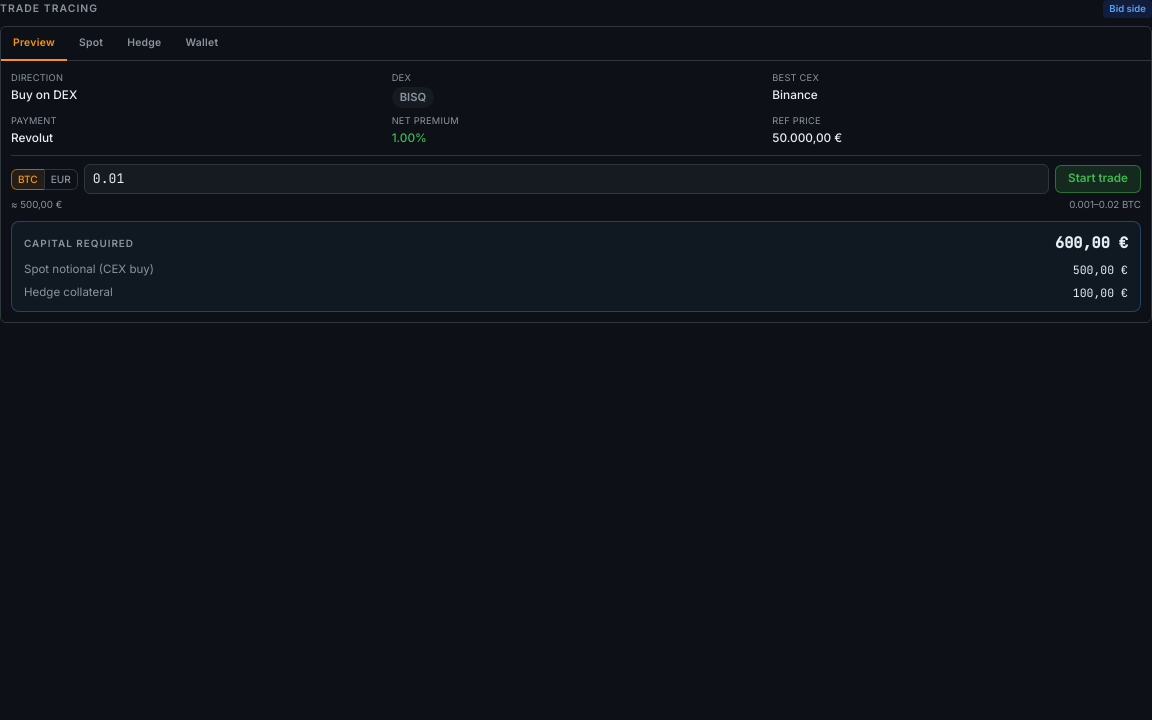
Test case: TradeTracingPanel custom quotes › discards a stale quote after the amount changes
The image size is (1152, 720).
Replace the text in the field showing "0.01" with "0.005". click: (566, 179)
box: x1=84 y1=164 x2=1049 y2=194
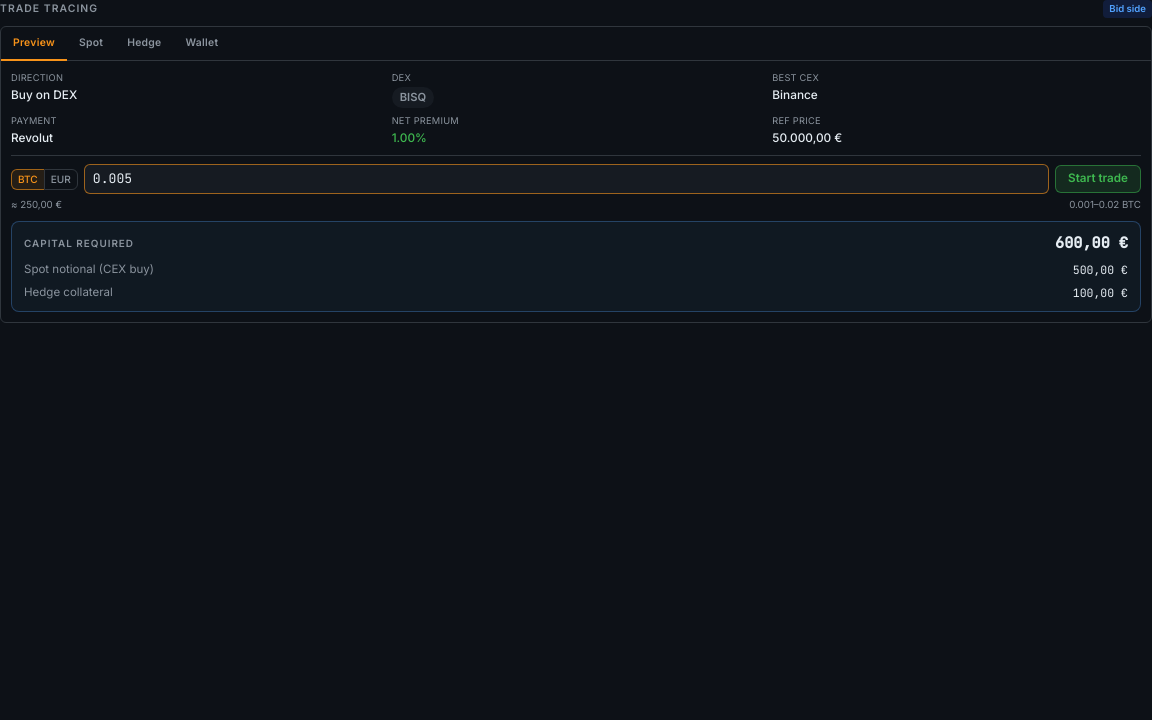
Click the button "Start trade". click: (1098, 179)
box: x1=1055 y1=166 x2=1141 y2=193
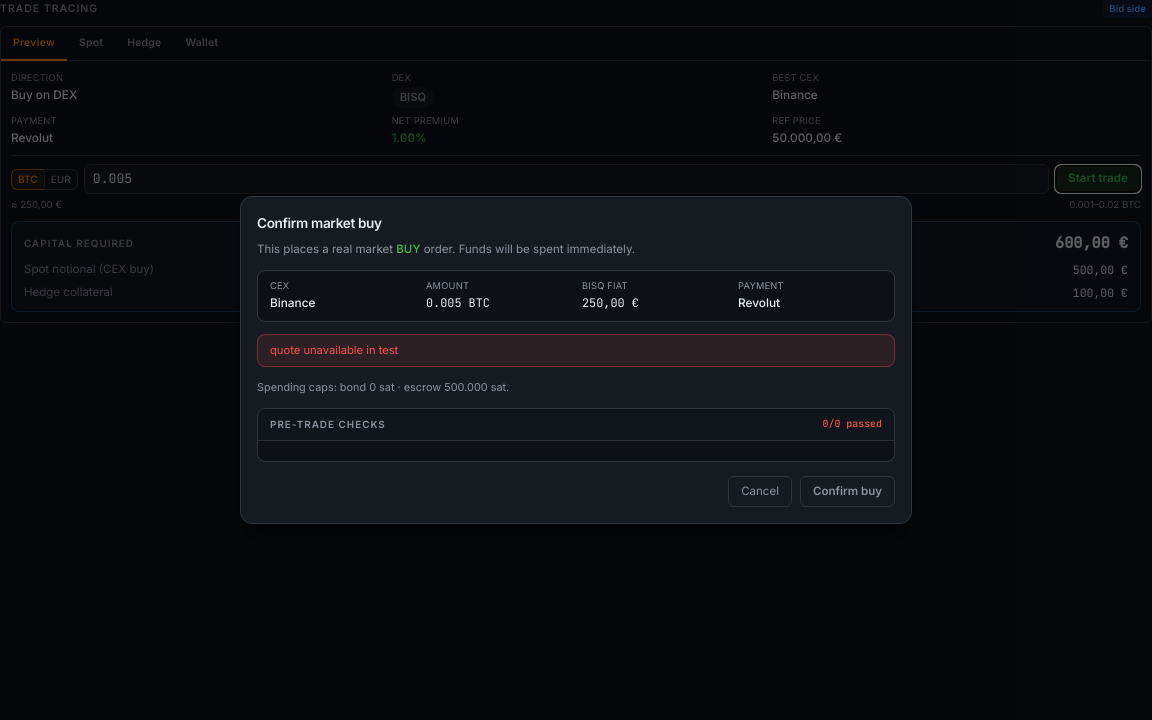
Expected: the text "0.005 BTC" is shown, x1=426 y1=295 x2=490 y2=311
